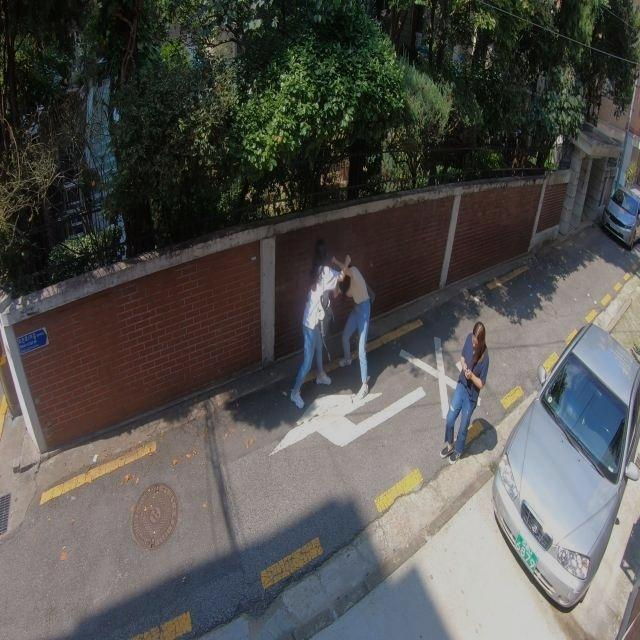fight: (287, 260, 375, 412)
non-fight: (440, 317, 487, 465)
